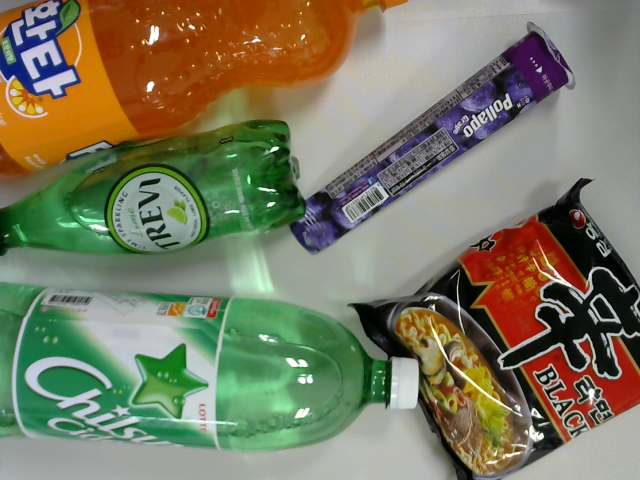Chilseong_Cider_1.5L: (1, 274, 425, 457)
Hwanta_Orange_1.5L: (2, 1, 409, 184)
Polapo_Grape: (283, 14, 583, 263)
Sinramen_Black: (345, 171, 638, 480)
Treviraim_500ml: (1, 111, 304, 266)
